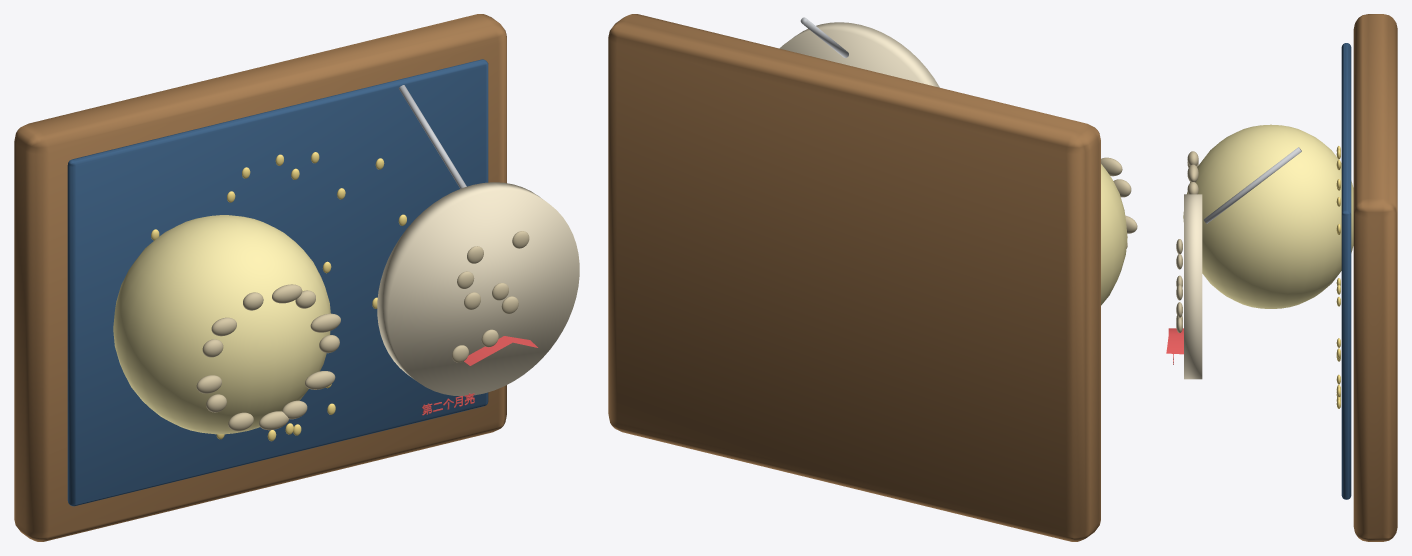
The model's file is Q07_Second_Cardboard_Classroom_Moon.glb.
3 views of the same model, side by side, from view 1: azimuth 30°, elevation 25°; view 2: azimuth 150°, elevation 25°; view 3: azimuth 270°, elevation 25° (orthographic). The views are drawn at different scales.
Visible parts, largest first — view 1: Q07 night-sky slate face recessed in wooden frame, Q07 actual classroom nighttime wall hanging chalkboard, Q07 real physical sculpted crater covered first moon, Q07 absurd SECOND moon fake cardboard disk actually suspende, Q07_REAL_MOON_ACTOR | Real corrugated paper moon crater laye, Q07_CARDBOARD_MOON_ACTOR | Real corrugated paper moon crater, Q07_BACKGROUND_STATIC | Hand painted tiny gleaming star dots, Q07_CARDBOARD_MOON_ACTOR | School astronomy nonsense label r, Q07 actual school physics second moon support wire; view 2: Q07 actual classroom nighttime wall hanging chalkboard, Q07 absurd SECOND moon fake cardboard disk actually suspende, Q07 real physical sculpted crater covered first moon, Q07_REAL_MOON_ACTOR | Real corrugated paper moon crater laye; view 3: Q07 actual classroom nighttime wall hanging chalkboard, Q07 real physical sculpted crater covered first moon, Q07 night-sky slate face recessed in wooden frame, Q07 absurd SECOND moon fake cardboard disk actually suspende, Q07 actual school physics second moon support wire, Q07_BACKGROUND_STATIC | Hand painted tiny gleaming star dots, Q07_CARDBOARD_MOON_ACTOR | Real corrugated paper moon crater, Q07_REAL_MOON_ACTOR | Real corrugated paper moon crater laye, Q07_CARDBOARD_MOON_ACTOR | School astronomy nonsense label r.
Part boxes in pixels (x1,y1,x2,y2): Q07 night-sky slate face recessed in wooden frame: [67, 59, 488, 506]; Q07 actual classroom nighttime wall hanging chalkboard: [14, 14, 506, 541]; Q07 real physical sculpted crater covered first moon: [113, 215, 330, 434]; Q07 absurd SECOND moon fake cardboard disk actually suspende: [377, 182, 579, 396]; Q07_REAL_MOON_ACTOR | Real corrugated paper moon crater laye: [196, 284, 340, 431]; Q07_CARDBOARD_MOON_ACTOR | Real corrugated paper moon crater: [452, 231, 529, 362]; Q07_BACKGROUND_STATIC | Hand painted tiny gleaming star dots: [151, 152, 406, 441]; Q07_CARDBOARD_MOON_ACTOR | School astronomy nonsense label r: [422, 336, 537, 415]; Q07 actual school physics second moon support wire: [399, 85, 466, 188]; Q07 actual classroom nighttime wall hanging chalkboard: [608, 14, 1100, 541]; Q07 absurd SECOND moon fake cardboard disk actually suspende: [779, 22, 939, 87]; Q07 real physical sculpted crater covered first moon: [1101, 164, 1127, 305]; Q07_REAL_MOON_ACTOR | Real corrugated paper moon crater laye: [1101, 157, 1137, 248]; Q07 actual classroom nighttime wall hanging chalkboard: [1353, 14, 1397, 541]; Q07 real physical sculpted crater covered first moon: [1183, 124, 1353, 308]; Q07 night-sky slate face recessed in wooden frame: [1341, 43, 1351, 499]; Q07 absurd SECOND moon fake cardboard disk actually suspende: [1184, 194, 1202, 379]; Q07 actual school physics second moon support wire: [1203, 147, 1301, 223]; Q07_BACKGROUND_STATIC | Hand painted tiny gleaming star dots: [1336, 146, 1340, 408]; Q07_CARDBOARD_MOON_ACTOR | Real corrugated paper moon crater: [1176, 239, 1182, 332]; Q07_REAL_MOON_ACTOR | Real corrugated paper moon crater laye: [1187, 151, 1198, 194]; Q07_CARDBOARD_MOON_ACTOR | School astronomy nonsense label r: [1166, 328, 1183, 364].
Bounding box in the file's own units: 1.9 × 1.55 × 0.9498.
